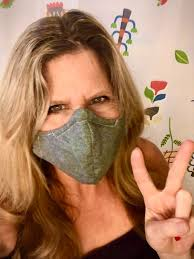mask: (26, 51, 129, 179)
